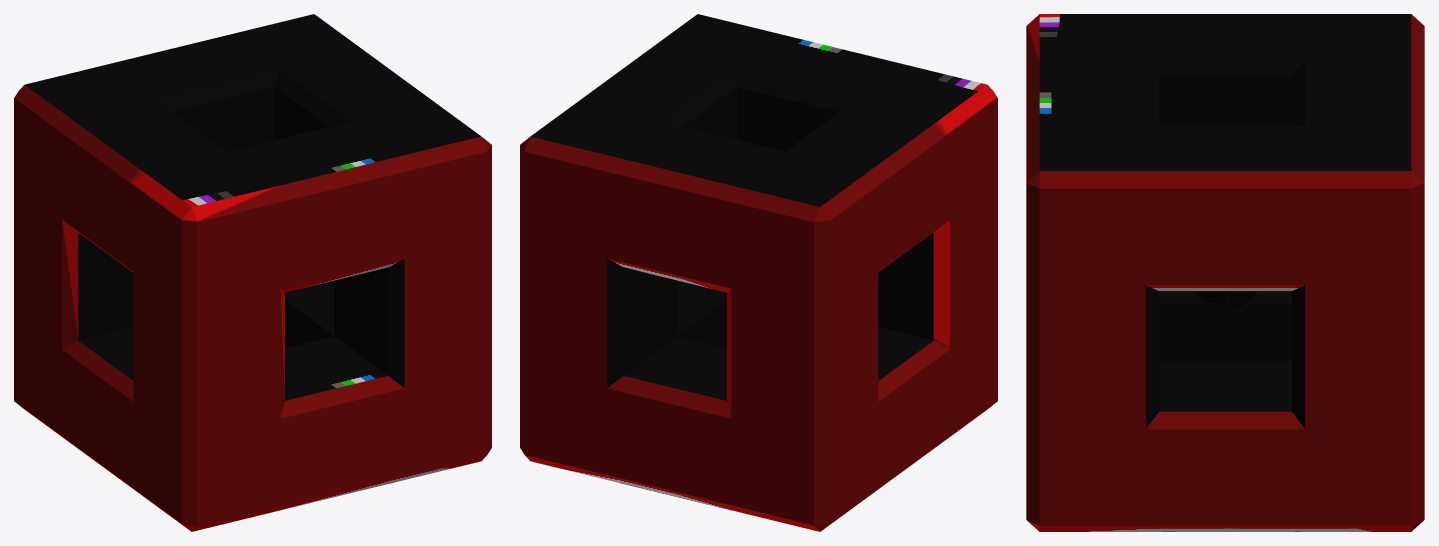
File: Amazing_Cube.fbx
3 renders of one model, left to right at view 1: azimuth 30°, elevation 25°; view 2: azimuth 150°, elevation 25°; view 3: azimuth 270°, elevation 25°, orthographic. The views are drawn at different scales.
Parts seen in each view (by area): view 1: Amazing Cube_PACK; view 2: Amazing Cube_PACK; view 3: Amazing Cube_PACK.
Part boxes in pixels (x1=…): Amazing Cube_PACK: x1=14, y1=14, x2=491, y2=531; Amazing Cube_PACK: x1=520, y1=14, x2=997, y2=531; Amazing Cube_PACK: x1=1026, y1=14, x2=1424, y2=531.
Bounding box in the file's own units: 6 × 6 × 6.
Materials: 1 (1 with a texture image).
